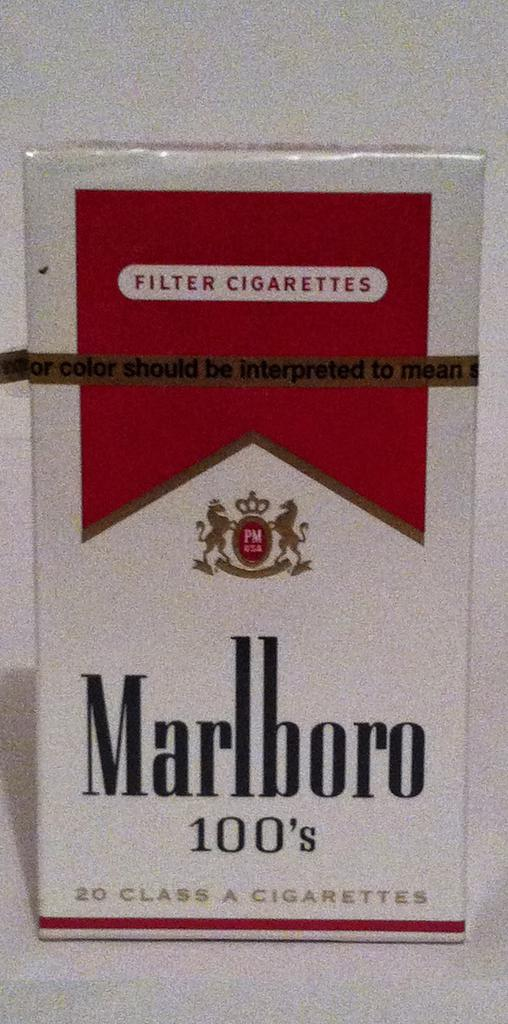marlboro_red: (24, 159, 464, 942)
